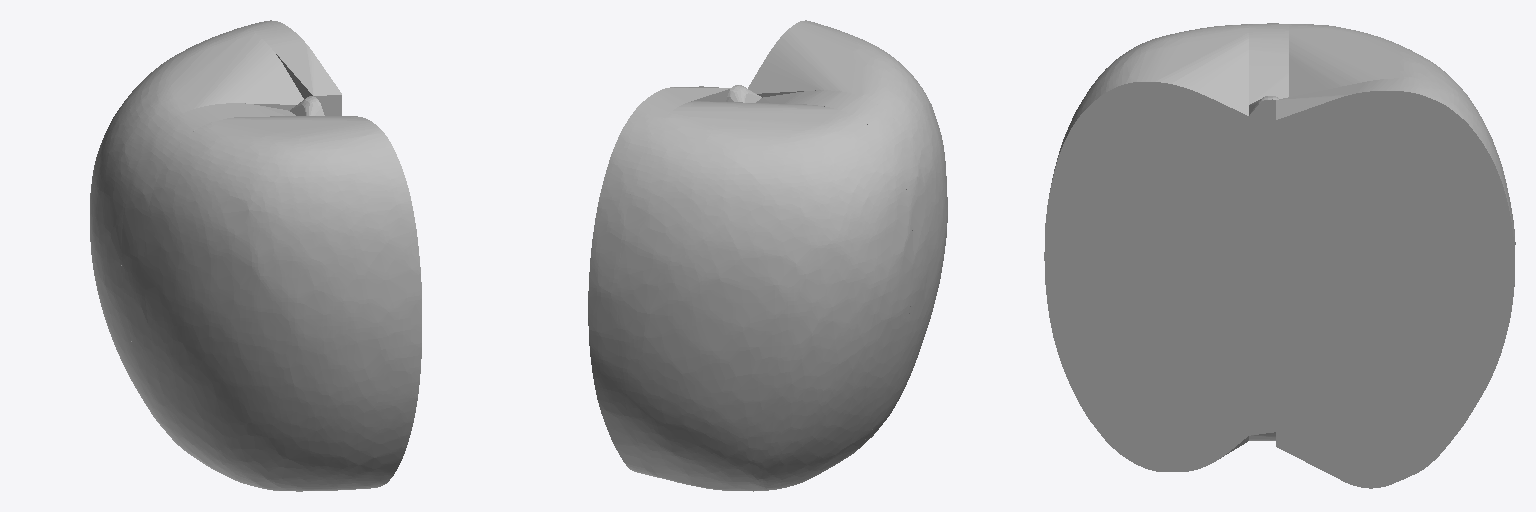
robot.urdf — root:
<robot name="root">
  <link name="link_coacd_convex_piece_0">
    <inertial>
      <origin xyz="0 0 0" rpy="0 0 0"/>
      <inertia ixx="3.40E-08" ixy="1.22E-08" ixz="1.26E-09" iyy="3.50E-08" iyz="-1.00E-09" izz="3.55E-08"/>
    </inertial>
    <visual>
      <origin xyz="0 0 0" rpy="0 0 0"/>
      <geometry>
        <mesh filename="coacd_convex_piece_0.obj" scale="1.0000E+00 1.0000E+00 1.0000E+00"/>
      </geometry>
      <material name="">
        <color rgba="7.50E-01 7.50E-01 7.50E-01 1"/>
      </material>
    </visual>
    <collision>
      <origin xyz="0 0 0" rpy="0 0 0"/>
      <geometry>
        <mesh filename="coacd_convex_piece_0.obj" scale="1.0000E+00 1.0000E+00 1.0000E+00"/>
      </geometry>
    </collision>
  </link>
  <link name="link_coacd_convex_piece_1">
    <inertial>
      <origin xyz="0 0 0" rpy="0 0 0"/>
      <inertia ixx="9.49E-09" ixy="3.61E-10" ixz="8.01E-12" iyy="4.28E-09" iyz="6.25E-11" izz="5.34E-09"/>
    </inertial>
    <visual>
      <origin xyz="0 0 0" rpy="0 0 0"/>
      <geometry>
        <mesh filename="coacd_convex_piece_1.obj" scale="1.0000E+00 1.0000E+00 1.0000E+00"/>
      </geometry>
      <material name="">
        <color rgba="7.50E-01 7.50E-01 7.50E-01 1"/>
      </material>
    </visual>
    <collision>
      <origin xyz="0 0 0" rpy="0 0 0"/>
      <geometry>
        <mesh filename="coacd_convex_piece_1.obj" scale="1.0000E+00 1.0000E+00 1.0000E+00"/>
      </geometry>
    </collision>
  </link>
  <joint name="link_coacd_convex_piece_1_joint" type="fixed">
    <origin xyz="0 0 0" rpy="0 0 0"/>
    <parent link="link_coacd_convex_piece_0"/>
    <child link="link_coacd_convex_piece_1"/>
  </joint>
  <link name="link_coacd_convex_piece_2">
    <inertial>
      <origin xyz="0 0 0" rpy="0 0 0"/>
      <inertia ixx="8.98E-09" ixy="-3.24E-10" ixz="-6.41E-12" iyy="4.17E-09" iyz="-2.30E-10" izz="4.93E-09"/>
    </inertial>
    <visual>
      <origin xyz="0 0 0" rpy="0 0 0"/>
      <geometry>
        <mesh filename="coacd_convex_piece_2.obj" scale="1.0000E+00 1.0000E+00 1.0000E+00"/>
      </geometry>
      <material name="">
        <color rgba="7.50E-01 7.50E-01 7.50E-01 1"/>
      </material>
    </visual>
    <collision>
      <origin xyz="0 0 0" rpy="0 0 0"/>
      <geometry>
        <mesh filename="coacd_convex_piece_2.obj" scale="1.0000E+00 1.0000E+00 1.0000E+00"/>
      </geometry>
    </collision>
  </link>
  <joint name="link_coacd_convex_piece_2_joint" type="fixed">
    <origin xyz="0 0 0" rpy="0 0 0"/>
    <parent link="link_coacd_convex_piece_1"/>
    <child link="link_coacd_convex_piece_2"/>
  </joint>
  <link name="link_coacd_convex_piece_3">
    <inertial>
      <origin xyz="0 0 0" rpy="0 0 0"/>
      <inertia ixx="3.21E-08" ixy="-1.15E-08" ixz="1.40E-09" iyy="2.87E-08" iyz="1.28E-09" izz="3.18E-08"/>
    </inertial>
    <visual>
      <origin xyz="0 0 0" rpy="0 0 0"/>
      <geometry>
        <mesh filename="coacd_convex_piece_3.obj" scale="1.0000E+00 1.0000E+00 1.0000E+00"/>
      </geometry>
      <material name="">
        <color rgba="7.50E-01 7.50E-01 7.50E-01 1"/>
      </material>
    </visual>
    <collision>
      <origin xyz="0 0 0" rpy="0 0 0"/>
      <geometry>
        <mesh filename="coacd_convex_piece_3.obj" scale="1.0000E+00 1.0000E+00 1.0000E+00"/>
      </geometry>
    </collision>
  </link>
  <joint name="link_coacd_convex_piece_3_joint" type="fixed">
    <origin xyz="0 0 0" rpy="0 0 0"/>
    <parent link="link_coacd_convex_piece_2"/>
    <child link="link_coacd_convex_piece_3"/>
  </joint>
  <link name="link_coacd_convex_piece_4">
    <inertial>
      <origin xyz="0 0 0" rpy="0 0 0"/>
      <inertia ixx="3.32E-08" ixy="-1.25E-08" ixz="-1.44E-09" iyy="3.83E-08" iyz="-1.27E-09" izz="3.64E-08"/>
    </inertial>
    <visual>
      <origin xyz="0 0 0" rpy="0 0 0"/>
      <geometry>
        <mesh filename="coacd_convex_piece_4.obj" scale="1.0000E+00 1.0000E+00 1.0000E+00"/>
      </geometry>
      <material name="">
        <color rgba="7.50E-01 7.50E-01 7.50E-01 1"/>
      </material>
    </visual>
    <collision>
      <origin xyz="0 0 0" rpy="0 0 0"/>
      <geometry>
        <mesh filename="coacd_convex_piece_4.obj" scale="1.0000E+00 1.0000E+00 1.0000E+00"/>
      </geometry>
    </collision>
  </link>
  <joint name="link_coacd_convex_piece_4_joint" type="fixed">
    <origin xyz="0 0 0" rpy="0 0 0"/>
    <parent link="link_coacd_convex_piece_3"/>
    <child link="link_coacd_convex_piece_4"/>
  </joint>
  <link name="link_coacd_convex_piece_5">
    <inertial>
      <origin xyz="0 0 0" rpy="0 0 0"/>
      <inertia ixx="3.28E-08" ixy="1.24E-08" ixz="-9.33E-10" iyy="3.70E-08" iyz="7.05E-10" izz="3.53E-08"/>
    </inertial>
    <visual>
      <origin xyz="0 0 0" rpy="0 0 0"/>
      <geometry>
        <mesh filename="coacd_convex_piece_5.obj" scale="1.0000E+00 1.0000E+00 1.0000E+00"/>
      </geometry>
      <material name="">
        <color rgba="7.50E-01 7.50E-01 7.50E-01 1"/>
      </material>
    </visual>
    <collision>
      <origin xyz="0 0 0" rpy="0 0 0"/>
      <geometry>
        <mesh filename="coacd_convex_piece_5.obj" scale="1.0000E+00 1.0000E+00 1.0000E+00"/>
      </geometry>
    </collision>
  </link>
  <joint name="link_coacd_convex_piece_5_joint" type="fixed">
    <origin xyz="0 0 0" rpy="0 0 0"/>
    <parent link="link_coacd_convex_piece_4"/>
    <child link="link_coacd_convex_piece_5"/>
  </joint>
  <link name="link_coacd_convex_piece_6">
    <inertial>
      <origin xyz="0 0 0" rpy="0 0 0"/>
      <inertia ixx="3.76E-10" ixy="-7.11E-12" ixz="-2.29E-13" iyy="3.81E-10" iyz="-8.01E-13" izz="2.18E-11"/>
    </inertial>
    <visual>
      <origin xyz="0 0 0" rpy="0 0 0"/>
      <geometry>
        <mesh filename="coacd_convex_piece_6.obj" scale="1.0000E+00 1.0000E+00 1.0000E+00"/>
      </geometry>
      <material name="">
        <color rgba="7.50E-01 7.50E-01 7.50E-01 1"/>
      </material>
    </visual>
    <collision>
      <origin xyz="0 0 0" rpy="0 0 0"/>
      <geometry>
        <mesh filename="coacd_convex_piece_6.obj" scale="1.0000E+00 1.0000E+00 1.0000E+00"/>
      </geometry>
    </collision>
  </link>
  <joint name="link_coacd_convex_piece_6_joint" type="fixed">
    <origin xyz="0 0 0" rpy="0 0 0"/>
    <parent link="link_coacd_convex_piece_5"/>
    <child link="link_coacd_convex_piece_6"/>
  </joint>
  <link name="link_coacd_convex_piece_7">
    <inertial>
      <origin xyz="0 0 0" rpy="0 0 0"/>
      <inertia ixx="3.83E-09" ixy="-4.06E-10" ixz="2.08E-10" iyy="9.29E-09" iyz="-2.81E-12" izz="5.61E-09"/>
    </inertial>
    <visual>
      <origin xyz="0 0 0" rpy="0 0 0"/>
      <geometry>
        <mesh filename="coacd_convex_piece_7.obj" scale="1.0000E+00 1.0000E+00 1.0000E+00"/>
      </geometry>
      <material name="">
        <color rgba="7.50E-01 7.50E-01 7.50E-01 1"/>
      </material>
    </visual>
    <collision>
      <origin xyz="0 0 0" rpy="0 0 0"/>
      <geometry>
        <mesh filename="coacd_convex_piece_7.obj" scale="1.0000E+00 1.0000E+00 1.0000E+00"/>
      </geometry>
    </collision>
  </link>
  <joint name="link_coacd_convex_piece_7_joint" type="fixed">
    <origin xyz="0 0 0" rpy="0 0 0"/>
    <parent link="link_coacd_convex_piece_6"/>
    <child link="link_coacd_convex_piece_7"/>
  </joint>
</robot>

--- What the picture shows (computed from the rendered views, not written in the file) ---
The picture shows the robot from 3 angles, left to right: view 1: azimuth 30°, elevation 25°; view 2: azimuth 150°, elevation 25°; view 3: azimuth 270°, elevation 25°; orthographic projection.
Model root with 8 links and 7 joints (7 fixed), rooted at link_coacd_convex_piece_0, posed all joints at 0.
Visible links, largest first — view 1: link_coacd_convex_piece_3, link_coacd_convex_piece_0, link_coacd_convex_piece_7, link_coacd_convex_piece_2; view 2: link_coacd_convex_piece_0, link_coacd_convex_piece_3, link_coacd_convex_piece_2, link_coacd_convex_piece_7; view 3: link_coacd_convex_piece_2, link_coacd_convex_piece_3, link_coacd_convex_piece_6, link_coacd_convex_piece_0, link_coacd_convex_piece_7.
Link boxes in pixels (bbox=[...]): link_coacd_convex_piece_3: bbox=[144, 116, 421, 491]; link_coacd_convex_piece_0: bbox=[90, 28, 303, 442]; link_coacd_convex_piece_7: bbox=[121, 103, 295, 468]; link_coacd_convex_piece_2: bbox=[237, 20, 341, 115]; link_coacd_convex_piece_0: bbox=[618, 101, 913, 491]; link_coacd_convex_piece_3: bbox=[748, 20, 947, 435]; link_coacd_convex_piece_2: bbox=[588, 86, 730, 477]; link_coacd_convex_piece_7: bbox=[756, 90, 928, 455]; link_coacd_convex_piece_2: bbox=[1276, 78, 1515, 488]; link_coacd_convex_piece_3: bbox=[1044, 24, 1248, 471]; link_coacd_convex_piece_6: bbox=[1249, 96, 1278, 435]; link_coacd_convex_piece_0: bbox=[1289, 24, 1506, 183]; link_coacd_convex_piece_7: bbox=[1249, 23, 1288, 440].
Size in the robot's own frame: 0.0425 by 0.0756 by 0.071 metres.
5 mesh visuals loaded from 8 distinct referenced files (5 OBJ); not drawn: 3 (reference not matched to a file when rendering).